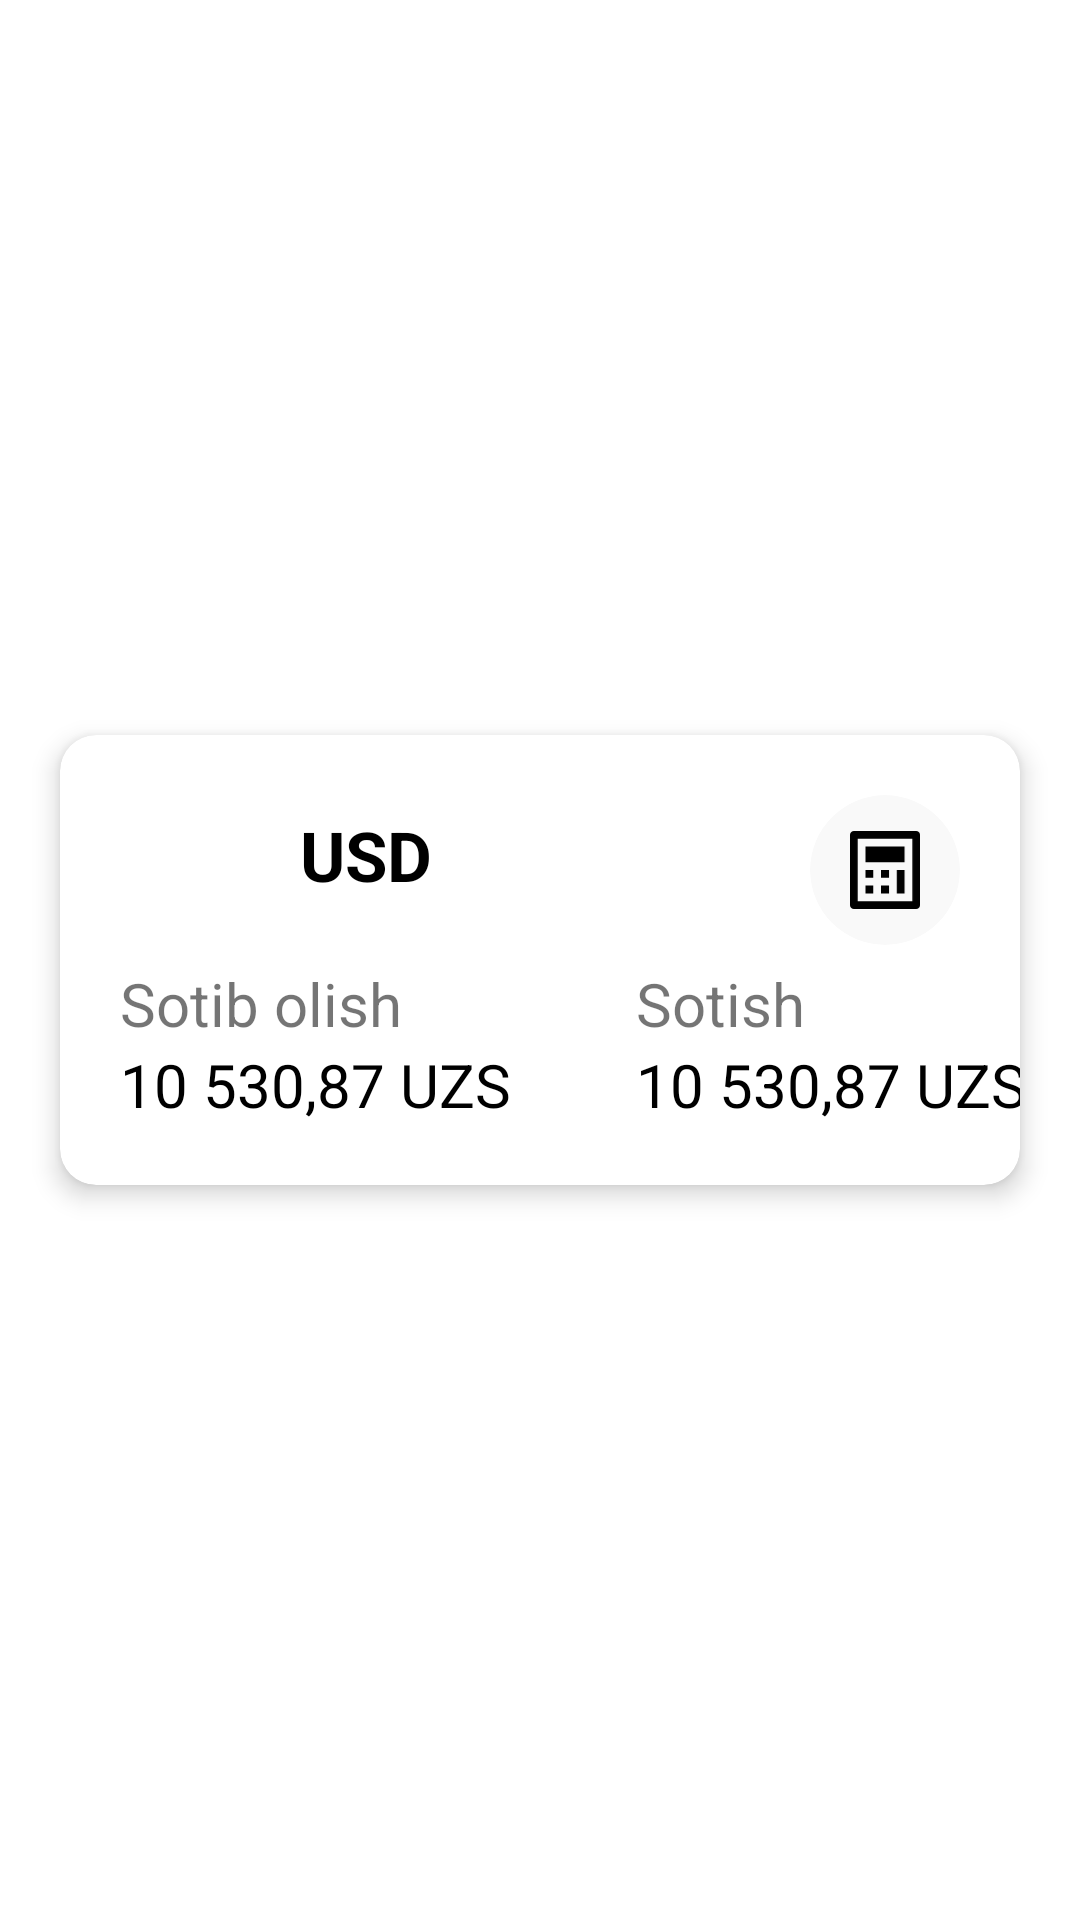

Locate icon controls on the screen. Image size 1080px x 1920px, boxes as (x1, y1, x2, y2).
calculator: (850, 831, 920, 909)
